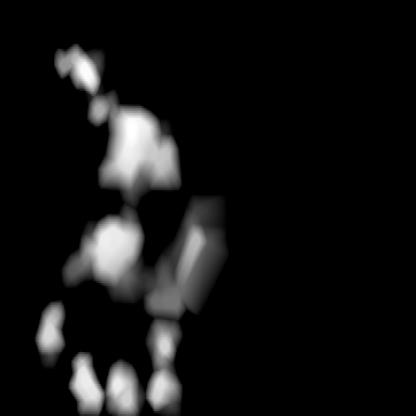fingers: (50, 37, 102, 91)
palm: (34, 314, 180, 410)
thumb: (86, 94, 202, 303)
